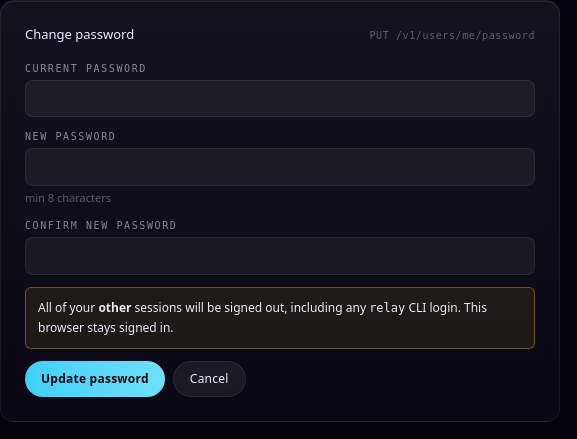
Test: Cancel clears all three inputs and issues nothing
In the password field labelled "Current password": {"x": 280, "y": 98} [25, 80, 535, 117], type "old-secret"
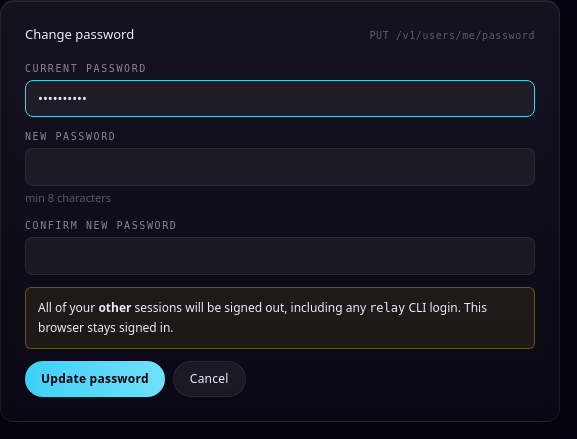
In the password field labelled "New password": {"x": 280, "y": 167} [25, 148, 535, 186], type "new-secret-123"
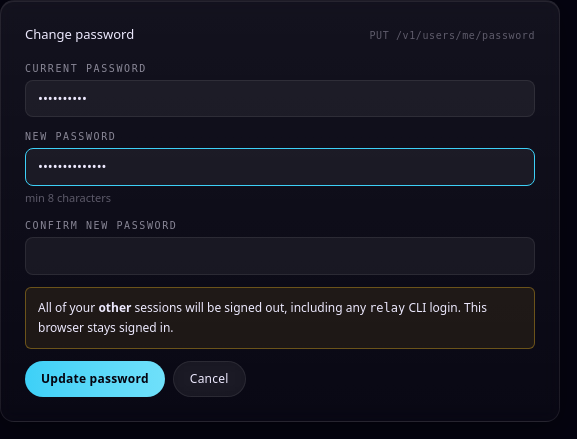
In the password field labelled "Confirm new password": {"x": 280, "y": 256} [25, 237, 535, 274], type "new-secret-123"
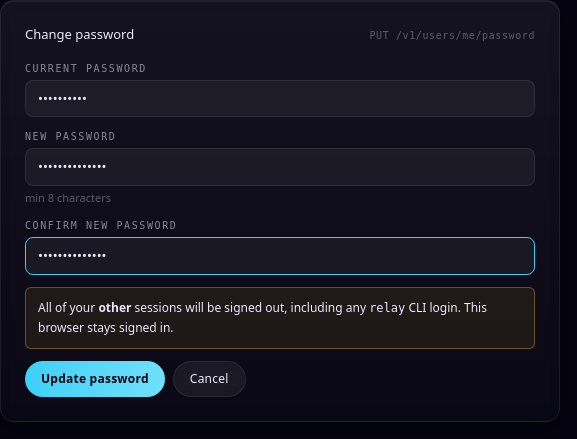
Click the button "Cancel": {"x": 209, "y": 378} [173, 360, 246, 396]
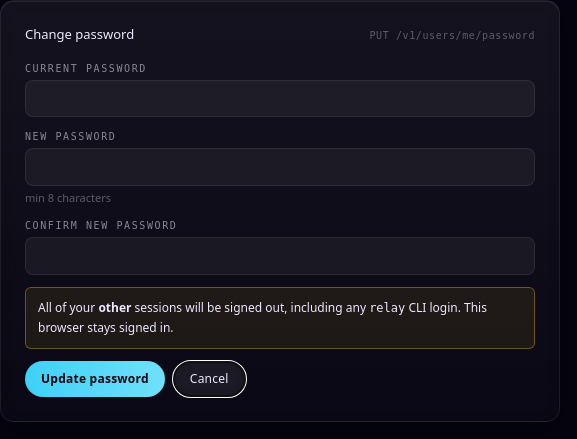
Result: the password field labelled "Current password" is empty at [25, 80, 535, 117]
Result: the password field labelled "New password" is empty at [25, 148, 535, 186]
Result: the password field labelled "Confirm new password" is empty at [25, 237, 535, 274]
